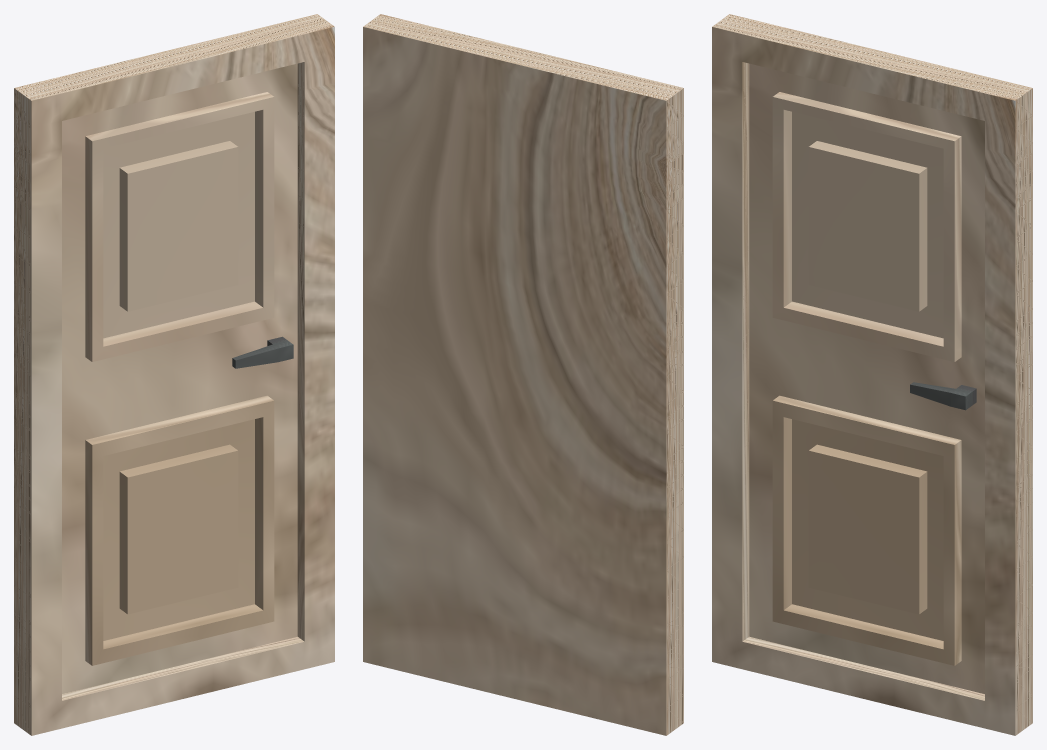
File: Puerta_32.fbx
3 views of the same model, side by side, from view 1: azimuth 30°, elevation 25°; view 2: azimuth 150°, elevation 25°; view 3: azimuth 330°, elevation 25° (orthographic).
Visible parts, largest first — view 1: Cube.032; view 2: Cube.032; view 3: Cube.032.
Boxes of the visible parts, x1=… form: Cube.032: x1=14, y1=14, x2=334, y2=735; Cube.032: x1=363, y1=14, x2=683, y2=735; Cube.032: x1=712, y1=14, x2=1032, y2=735.
Bounding box in the file's own units: 200 × 400 × 24.74.
